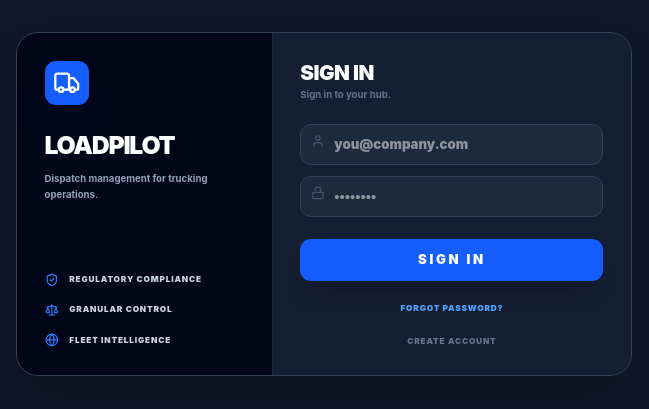
Auth email verification notice › shows generic error for non-verification login failures
The image size is (649, 409).
In the field with placeholder "you@company.com": x=452, y=145 [300, 124, 604, 165], type "wrong@test.com"
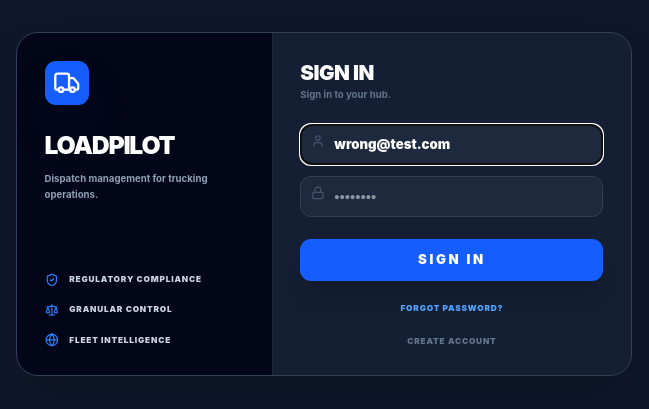
In the password field with placeholder "••••••••": x=452, y=197 [300, 176, 604, 217], type "WrongPassword!"
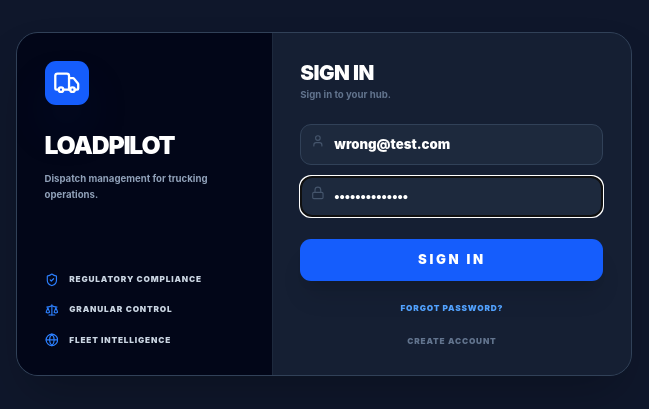
Click the button "Sign In": x=452, y=260 [300, 239, 604, 281]
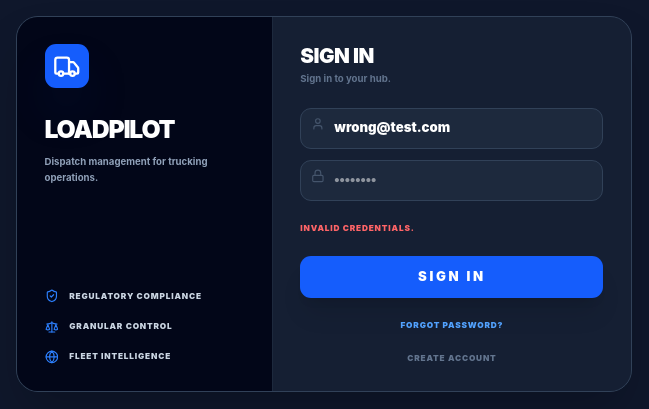
Now the message reads "Invalid credentials.", box [300, 223, 415, 233]
